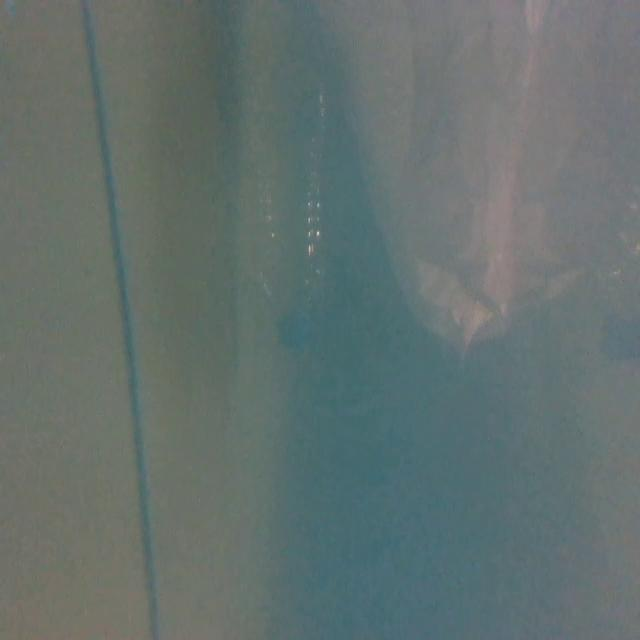plastic bags: (324, 0, 638, 356)
plastic bottle: (246, 74, 332, 352)
